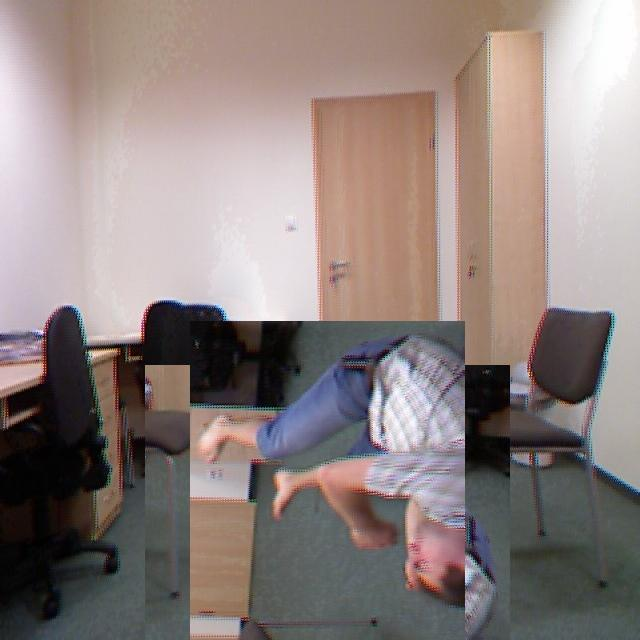Fall: (200, 359, 495, 640)
